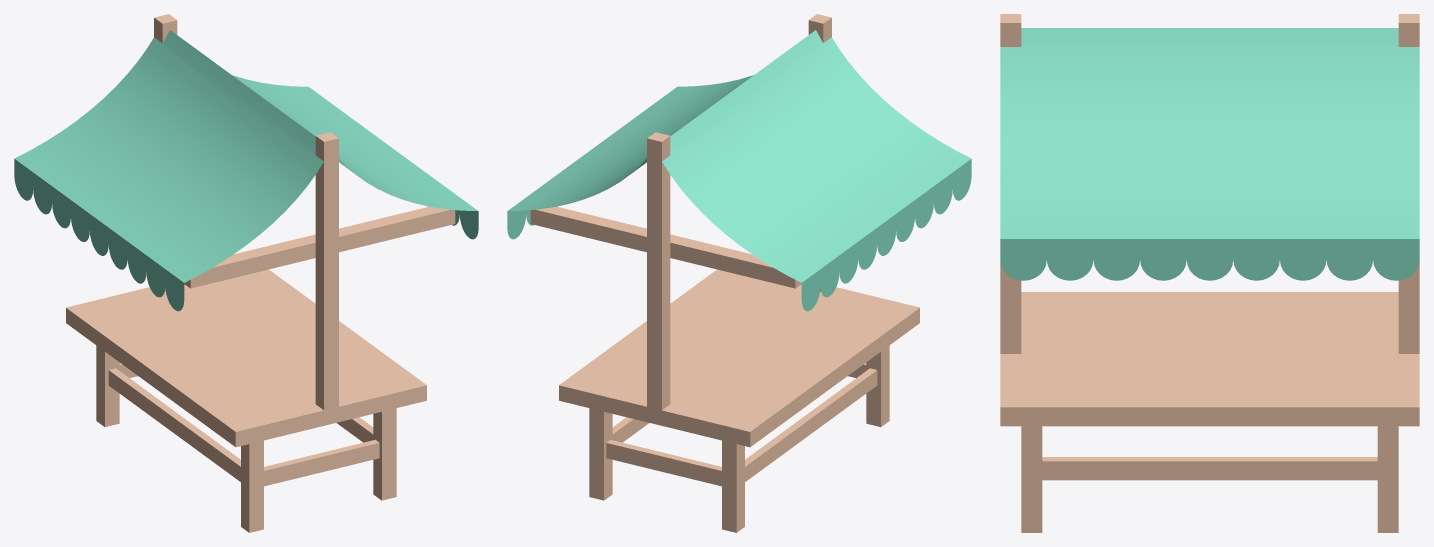
3 renders of one model, left to right at view 1: azimuth 30°, elevation 25°; view 2: azimuth 150°, elevation 25°; view 3: azimuth 270°, elevation 25°, orthographic. The views are drawn at different scales.
Parts seen in each view (by area): view 1: stallGreen; view 2: stallGreen; view 3: stallGreen.
Part boxes in pixels (<box>): stallGreen: <box>14,14,478,532</box>; stallGreen: <box>507,14,971,532</box>; stallGreen: <box>1000,14,1419,532</box>.
Size of the model in its own units: 1 by 1.24 by 1.
